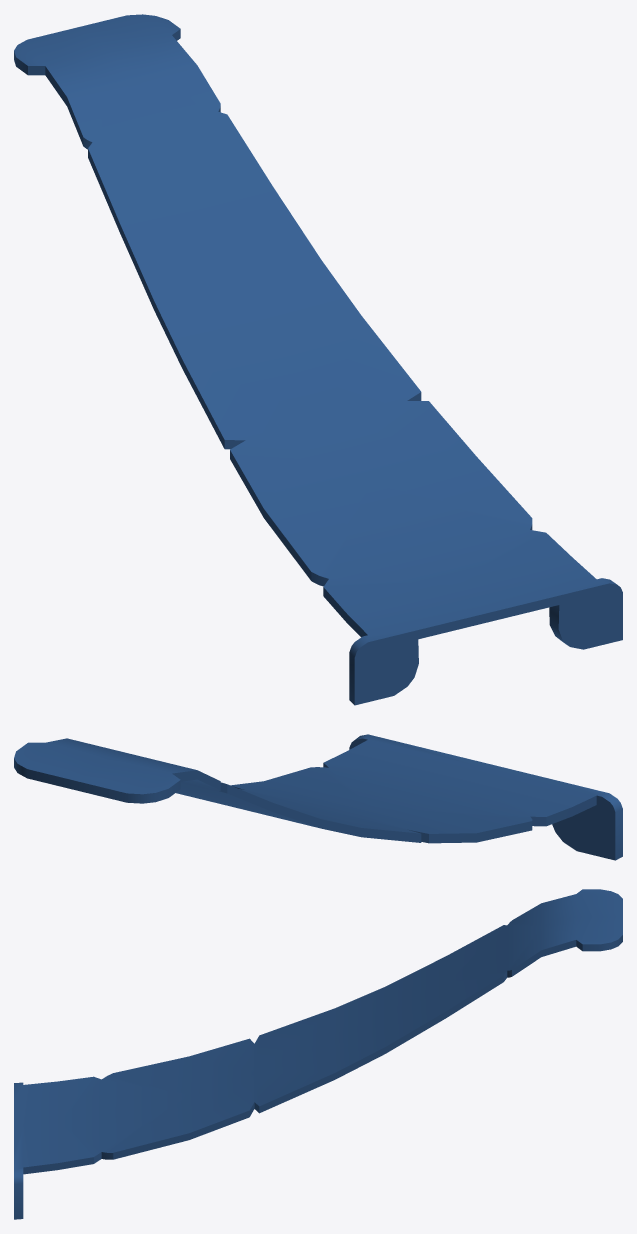
File: OBJ_FLAG_C_01.FBX
The picture shows the model from 3 angles, top to bottom: view 1: azimuth 30°, elevation 25°; view 2: azimuth 150°, elevation 25°; view 3: azimuth 270°, elevation 25°; orthographic projection. The views are drawn at different scales.
Visible parts, largest first — view 1: OBJ_FLAG_C_01; view 2: OBJ_FLAG_C_01; view 3: OBJ_FLAG_C_01.
Part boxes in pixels (x1=…): OBJ_FLAG_C_01: x1=14, y1=14, x2=622, y2=705; OBJ_FLAG_C_01: x1=14, y1=734, x2=622, y2=860; OBJ_FLAG_C_01: x1=14, y1=889, x2=622, y2=1219.
Size of the model in its own units: 17.15 by 21 by 45.57.
